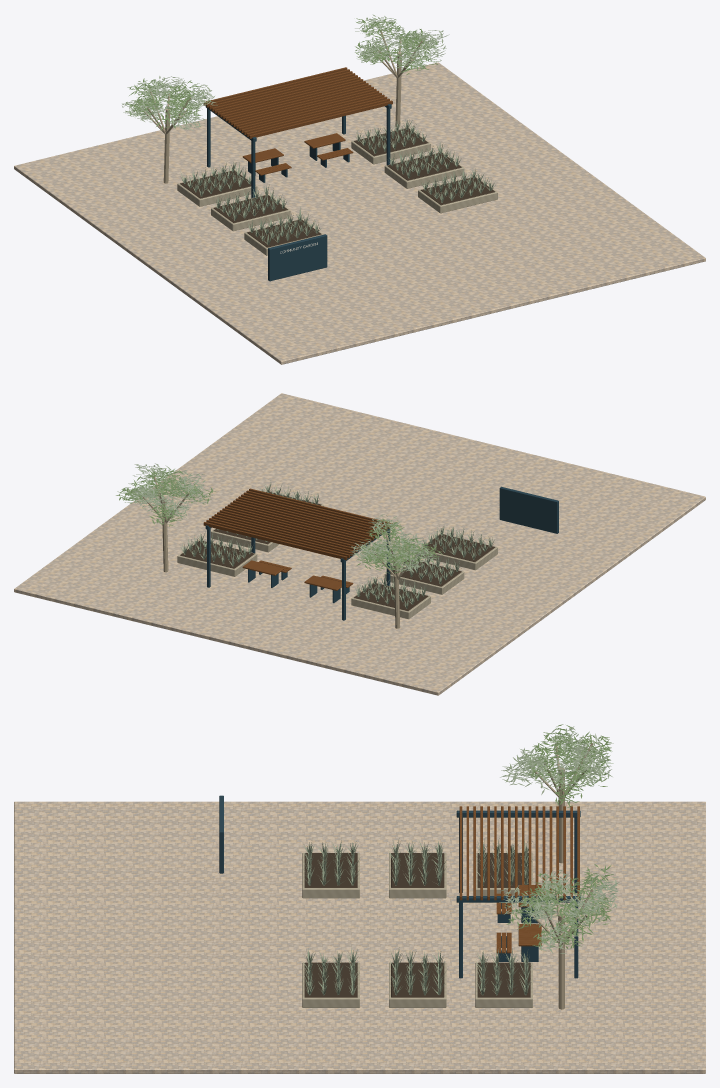
File: garden.glb
3 renders of one model, top to bottom at view 1: azimuth 30°, elevation 25°; view 2: azimuth 150°, elevation 25°; view 3: azimuth 270°, elevation 25°, orthographic. The views are drawn at different scales.
Parts seen in each view (by area): view 1: Whole item paving.006, Place identity.001, Mulch.004, Mulch.001, Mulch.003, Mulch, Mulch.002, Mulch.005, Garden edge.003, Garden edge.001, Garden edge.004, Garden edge.005 (+2 smaller); view 2: Whole item paving.006, Place identity.001, Mulch, Mulch.005, Mulch.002, Mulch.001, Garden edge.002, Garden edge.005, Timber shade slat.043, Garden edge, Garden edge.001, Garden edge.004; view 3: Whole item paving.006, Mulch.003, Mulch.004, Mulch, Mulch.005, Mulch.001, Mulch.002, Garden edge, Garden edge.003, Garden edge.005, Garden edge.001, Garden edge.004 (+2 smaller).
Part boxes in pixels (<box>): Whole item paving.006: <box>14,62,705,364</box>; Place identity.001: <box>268,234,327,281</box>; Mulch.004: <box>387,152,461,180</box>; Mulch.001: <box>213,195,287,222</box>; Mulch.003: <box>420,177,495,205</box>; Mulch: <box>247,220,321,247</box>; Mulch.002: <box>180,170,251,198</box>; Mulch.005: <box>354,128,428,156</box>; Garden edge.003: <box>418,177,497,213</box>; Garden edge.001: <box>211,194,290,231</box>; Garden edge.004: <box>384,152,464,188</box>; Garden edge.005: <box>351,127,430,164</box>; Whole item paving.006: <box>14,393,705,695</box>; Place identity.001: <box>499,486,558,533</box>; Mulch: <box>423,534,495,561</box>; Mulch.005: <box>180,541,254,568</box>; Mulch.002: <box>354,583,428,610</box>; Mulch.001: <box>390,560,461,586</box>; Garden edge.002: <box>351,583,430,619</box>; Garden edge.005: <box>177,540,257,576</box>; Timber shade slat.043: <box>203,522,347,560</box>; Garden edge: <box>420,534,497,570</box>; Garden edge.001: <box>384,561,464,594</box>; Garden edge.004: <box>211,528,279,552</box>; Whole item paving.006: <box>14,801,705,1073</box>; Mulch.003: <box>304,962,357,997</box>; Mulch.004: <box>391,962,444,997</box>; Mulch: <box>304,853,357,887</box>; Mulch.005: <box>477,962,530,997</box>; Mulch.001: <box>391,853,444,887</box>; Mulch.002: <box>477,853,528,887</box>; Garden edge: <box>302,853,359,898</box>; Garden edge.003: <box>302,962,359,1007</box>; Garden edge.005: <box>475,962,532,1007</box>; Garden edge.001: <box>389,853,446,898</box>; Garden edge.004: <box>389,962,446,1007</box>.
Size of the model in its own units: 22 by 5.15 by 24.
9 materials, 3 textured.
